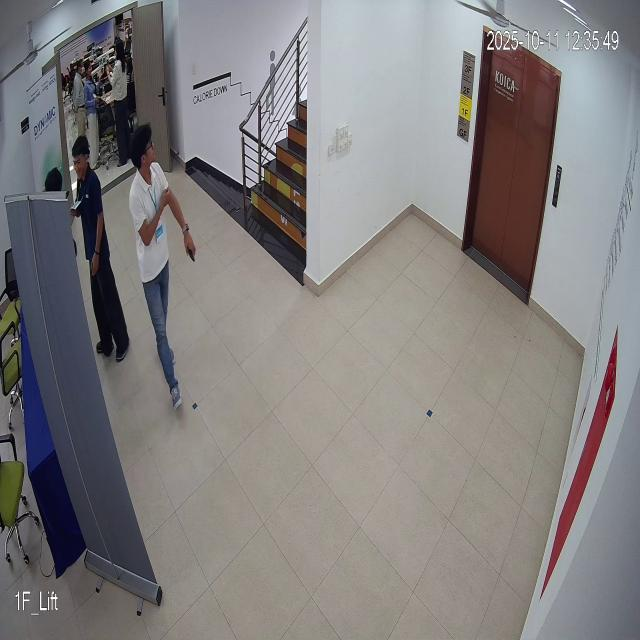face: (130, 114, 162, 178), (73, 132, 90, 180)
